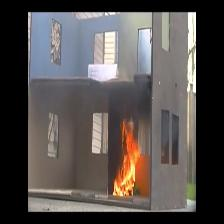fire: (115, 127, 142, 193)
